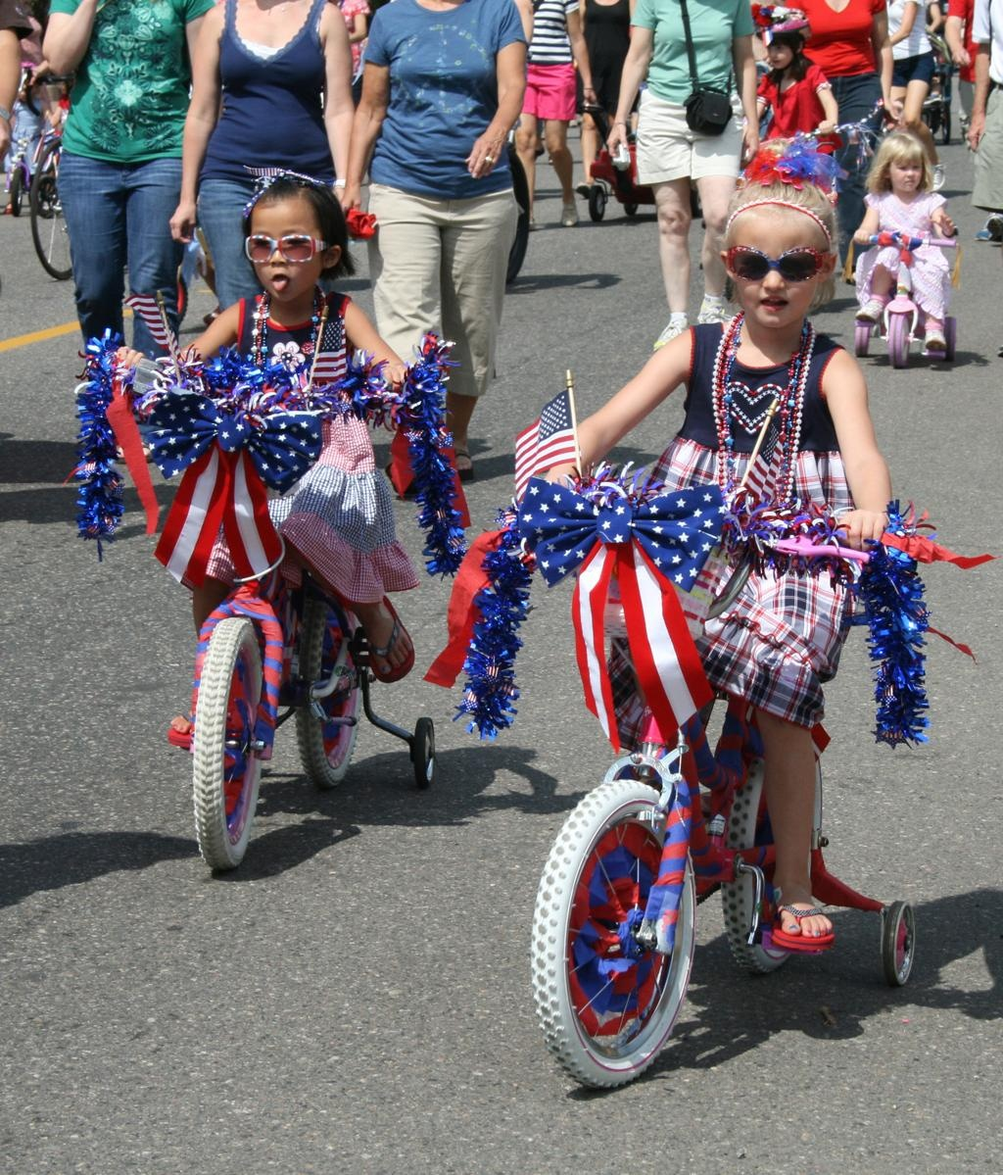human_face: (731, 213, 822, 328), (250, 206, 324, 301), (890, 157, 924, 194), (768, 38, 793, 70)
